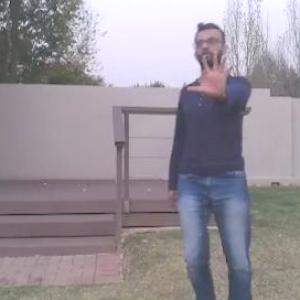follow_hand: (186, 50, 235, 96)
